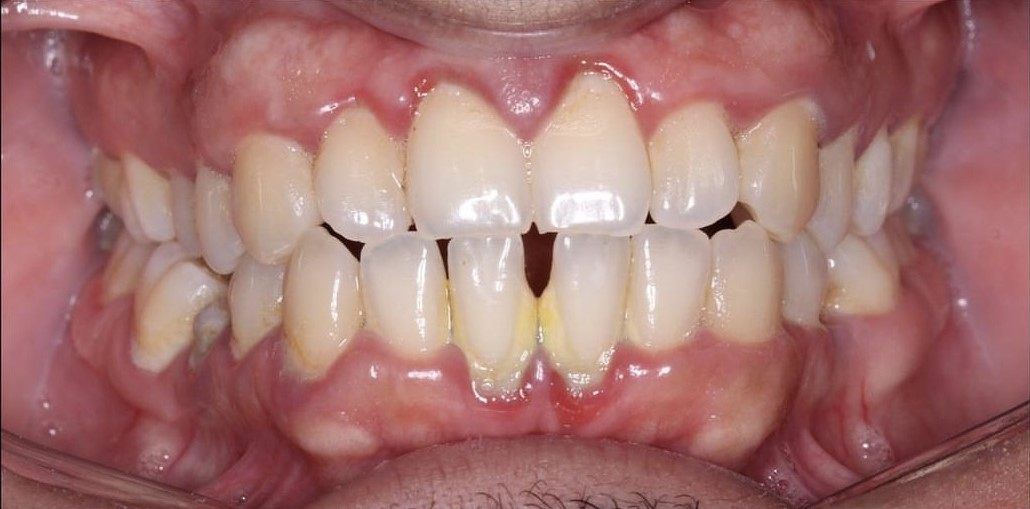LL1BC_healthy: (782, 233, 824, 331)
LL2BC_mdecay: (827, 244, 892, 317)
LLCI_mdecay: (538, 236, 627, 384)
LLC_healthy: (714, 231, 782, 343)
LLLI_healthy: (632, 231, 706, 347)
LR1BC_mdecay: (227, 266, 281, 354)
LR1M_mdecay: (133, 253, 193, 367)
LR2BC_sdecay: (191, 302, 225, 362)
LR2M_mdecay: (102, 242, 136, 295)
LRCI_mdecay: (447, 238, 534, 378)
LRC_mdecay: (284, 246, 363, 368)
LRLI_healthy: (360, 244, 446, 354)
UL1BC_healthy: (819, 140, 854, 248)
UL1M_mdecay: (891, 121, 912, 207)
UL2BC_healthy: (856, 135, 886, 231)
ULCI_healthy: (528, 76, 648, 233)
ULC_healthy: (738, 107, 823, 237)
ULLI_healthy: (650, 107, 737, 226)
UR1BC_healthy: (194, 161, 232, 275)
UR1M_healthy: (128, 156, 166, 237)
UR2BC_healthy: (170, 169, 192, 257)
URCI_healthy: (409, 87, 527, 235)
URC_healthy: (228, 143, 315, 258)
URLI_healthy: (317, 107, 403, 240)
